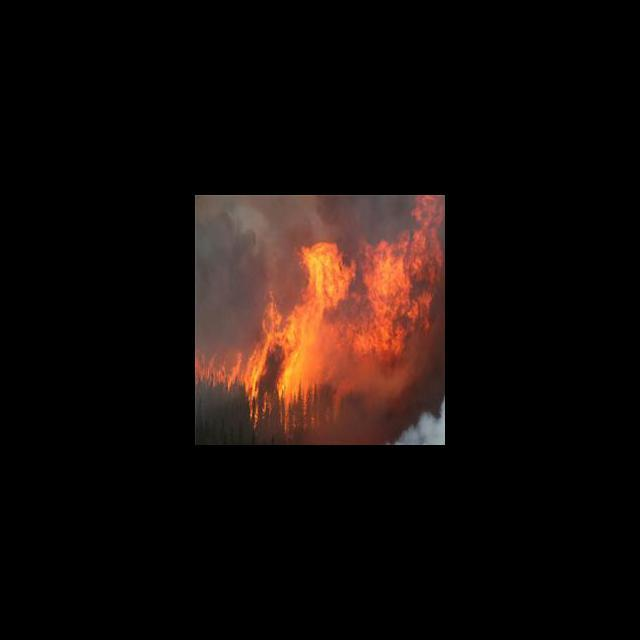Fire: (195, 196, 444, 388)
Smoke: (379, 396, 444, 444)
